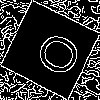O: (25, 24, 84, 81)
